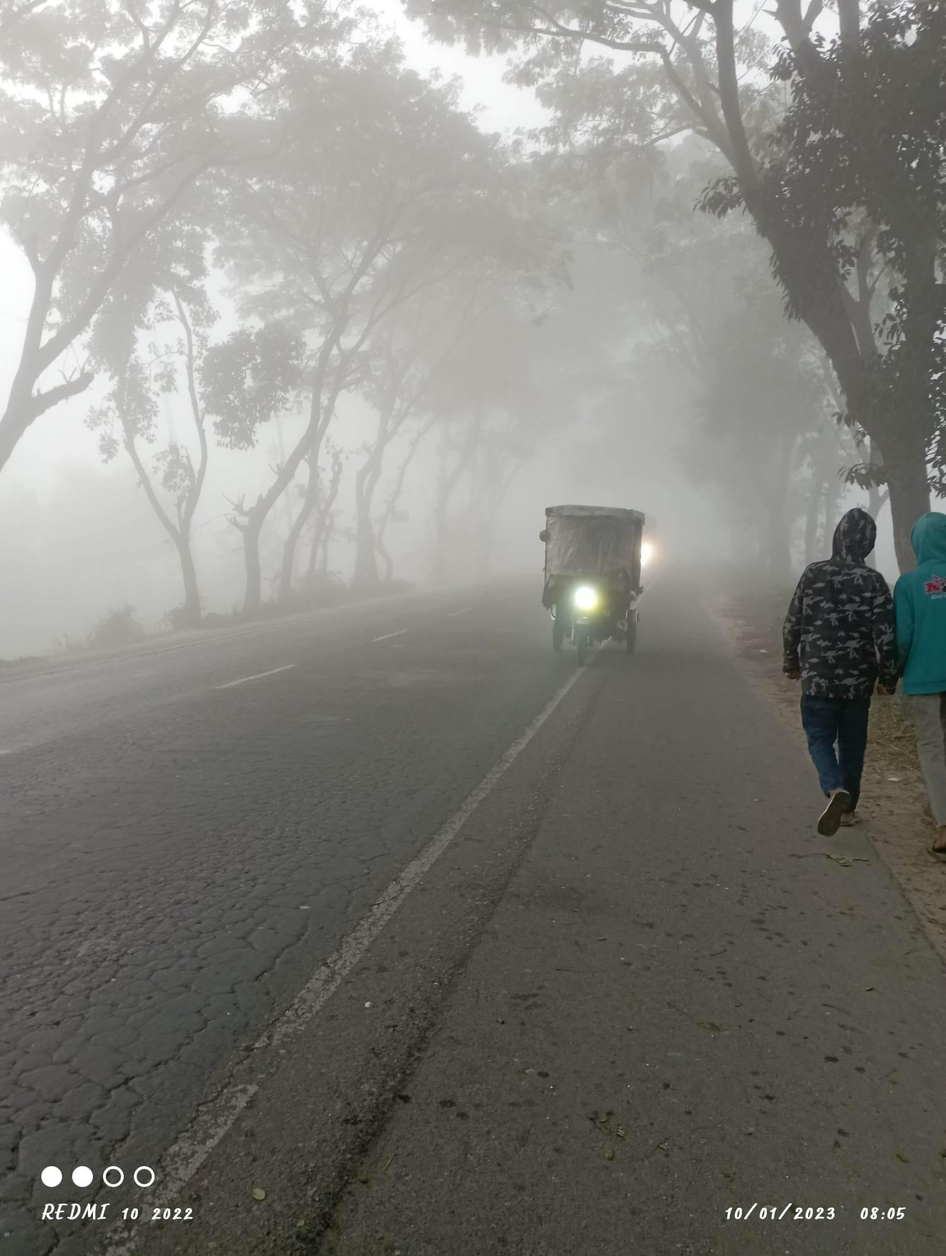Car: (520, 485, 695, 680)
